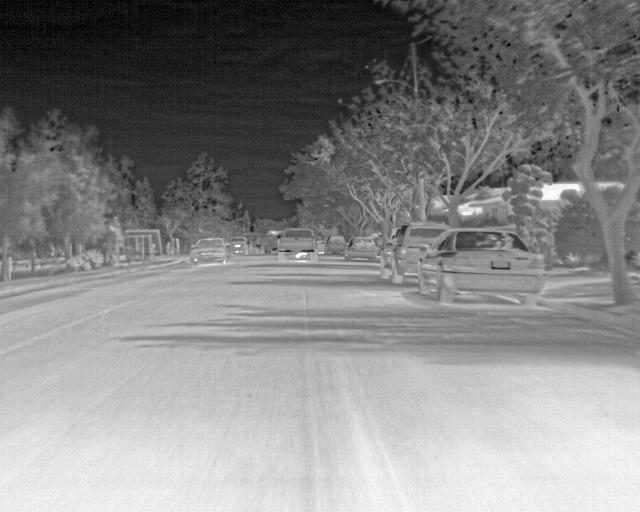car: (414, 227, 546, 309), (378, 222, 449, 285), (275, 227, 317, 261), (189, 236, 231, 265), (342, 233, 376, 262), (323, 235, 345, 257), (226, 235, 246, 254), (244, 241, 257, 255), (254, 244, 268, 256)
